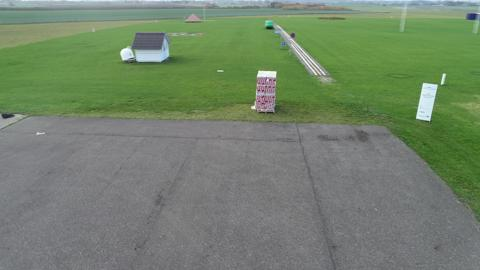RockwoolPallet: (255, 70, 278, 113)
